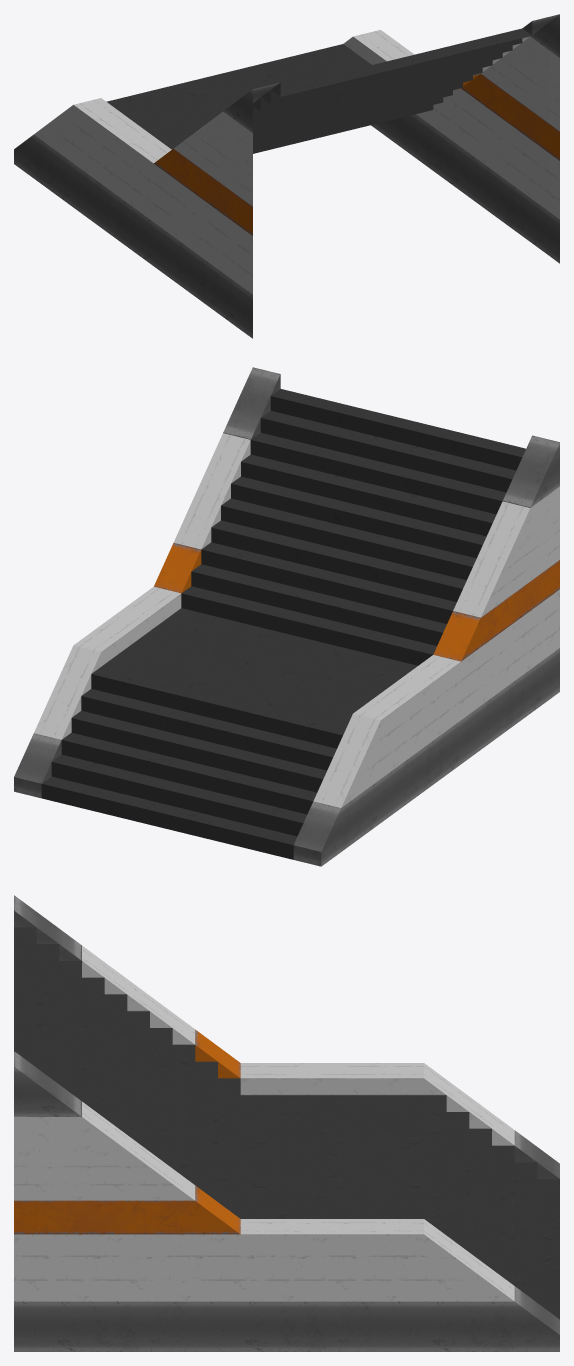
File: FrontStairs.fbx
The picture shows the model from 3 angles, top to bottom: view 1: azimuth 30°, elevation 25°; view 2: azimuth 150°, elevation 25°; view 3: azimuth 270°, elevation 25°; orthographic projection. The views are drawn at different scales.
Parts seen in each view (by area): view 1: FrontStairs; view 2: FrontStairs; view 3: FrontStairs.
Part boxes in pixels (box(x1,y1,x2,y2)): FrontStairs: box(14, 14, 559, 338); FrontStairs: box(14, 367, 559, 866); FrontStairs: box(14, 895, 559, 1351).
Bounding box in the file's own units: 6.05 × 4.7 × 8.14.
